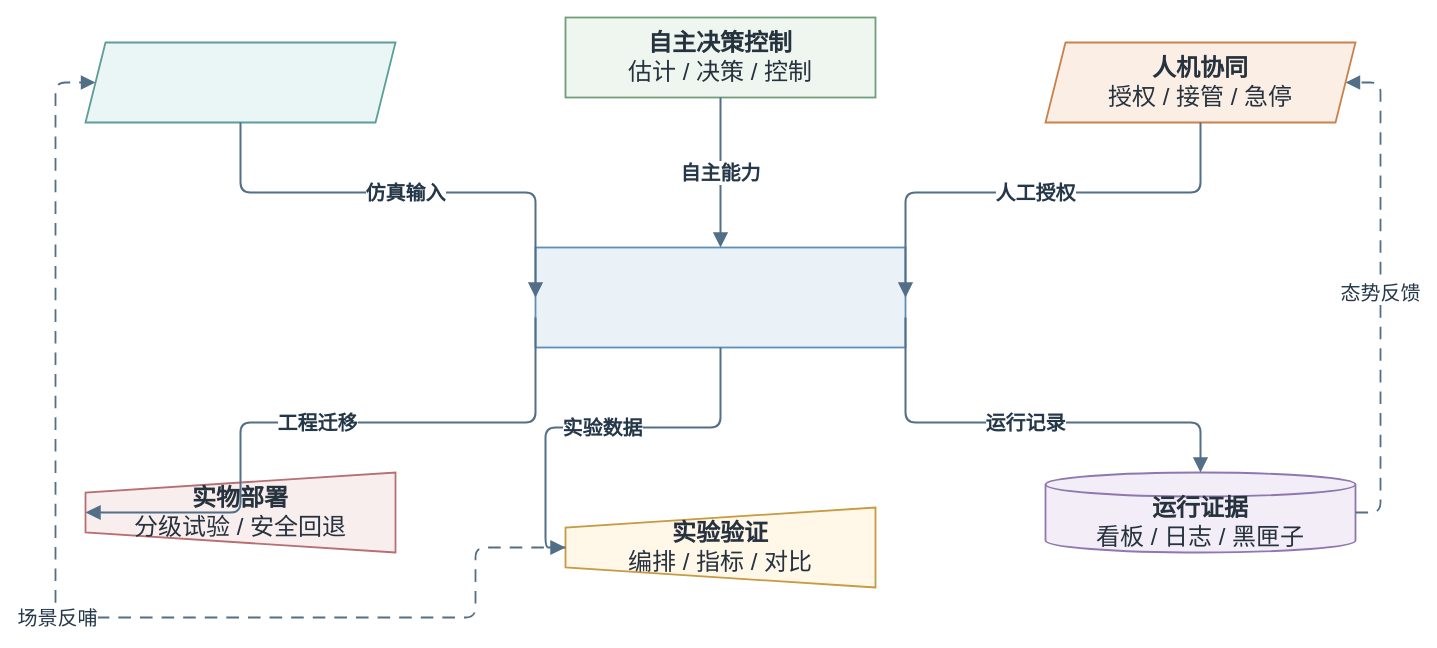
Some shapes in this 1437 by 648 pixel diagram are drawn without their labels. The shapes that lost their labels are listed below. From the top down, each one's box as (x1, y1, x2, y2) in pixels, then its label:
(84, 41, 396, 123): 仿真与环境 场景 / 传感 / 执行响应
(534, 246, 906, 348): 自主任务平台 任务执行 / 安全控制 / 数据闭环
